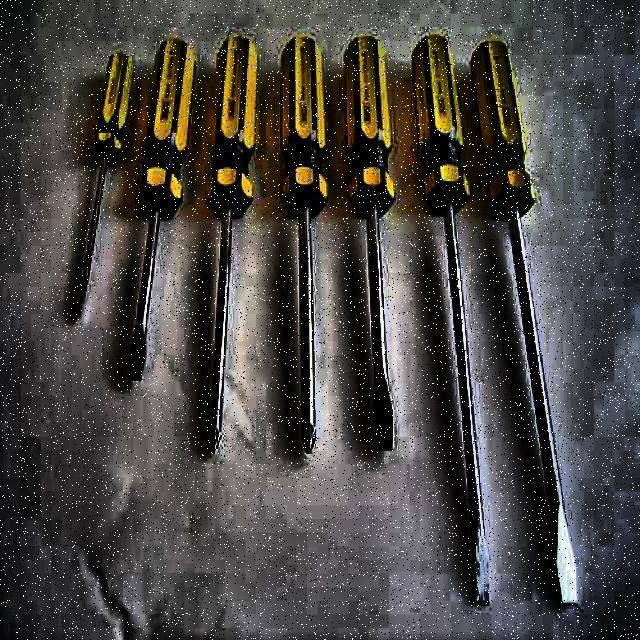screwdriver: (469, 38, 578, 606), (412, 34, 492, 605), (127, 37, 197, 382), (342, 34, 395, 452), (278, 36, 329, 454), (208, 36, 258, 454), (74, 51, 134, 321)
